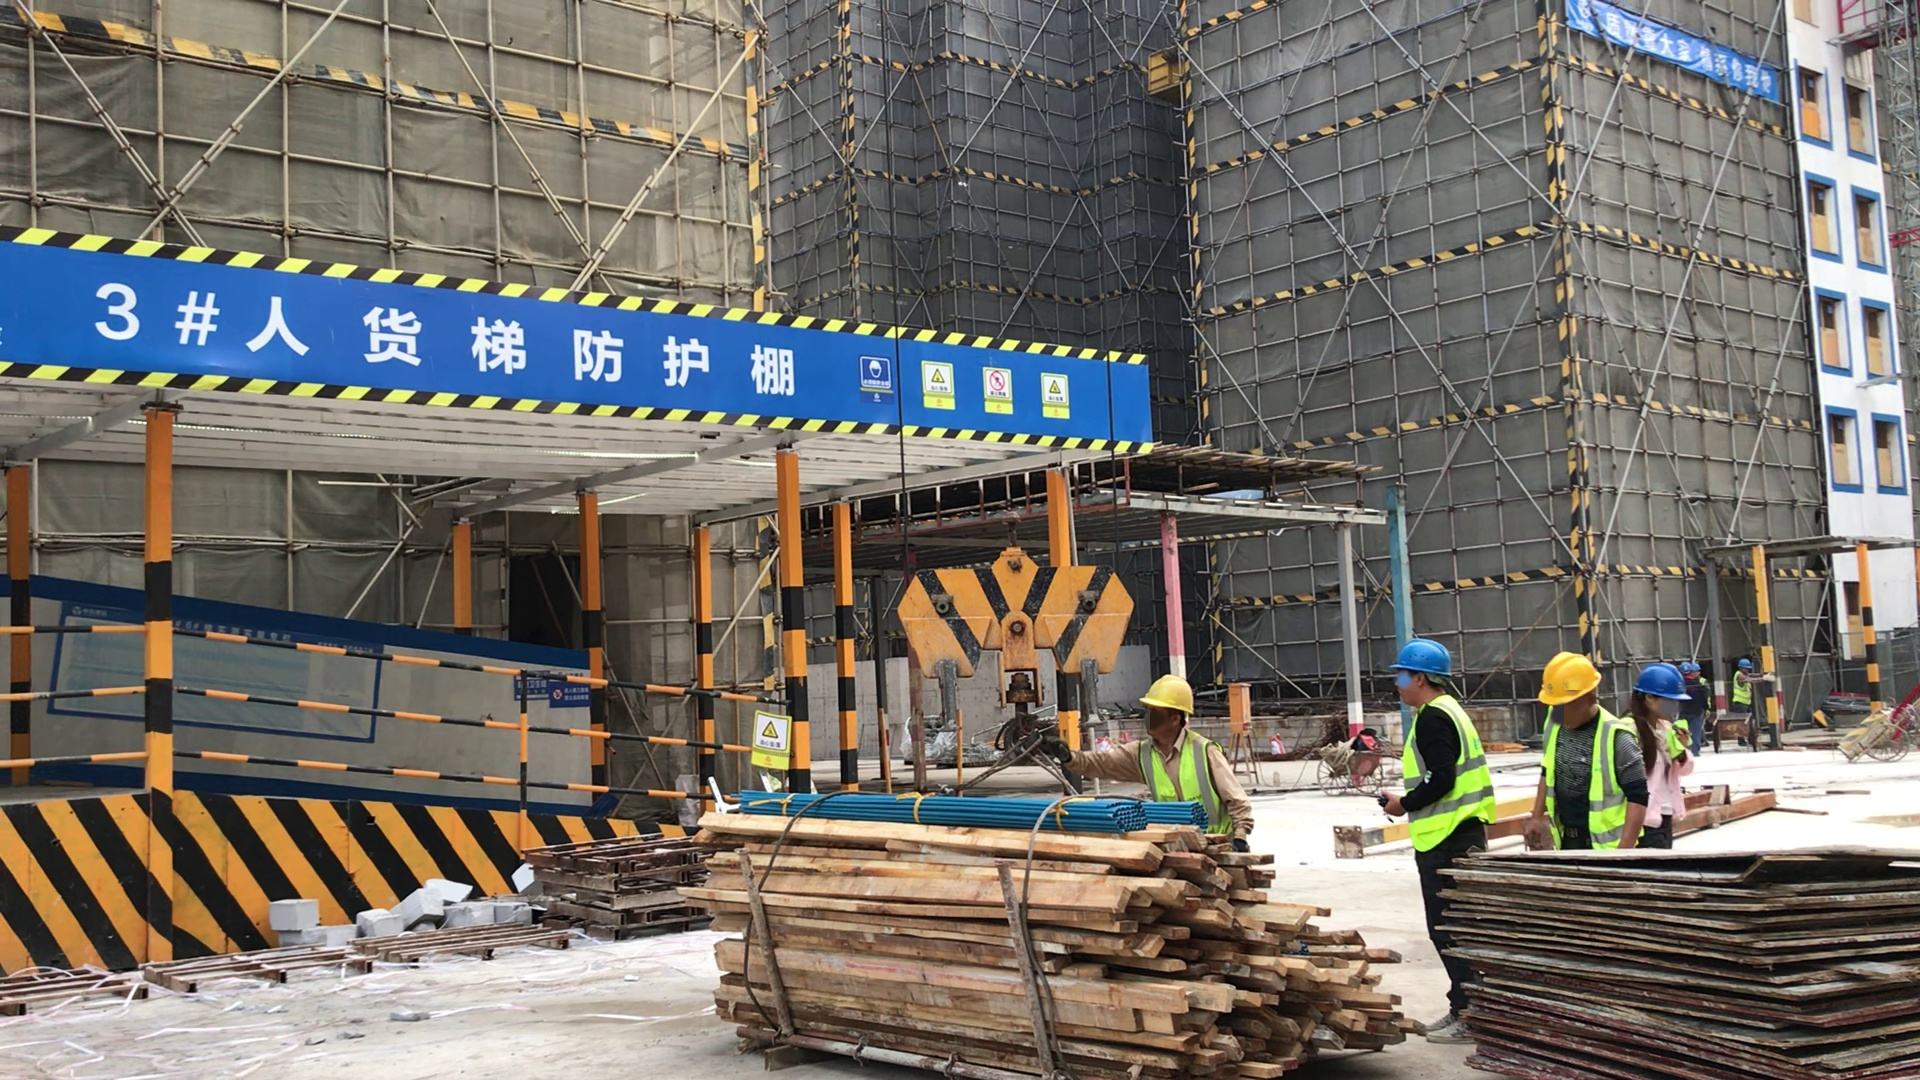board: (1426, 832, 1920, 1080)
handcart: (1834, 703, 1920, 772)
helmet: (1535, 651, 1604, 707), (1389, 631, 1452, 674), (1138, 667, 1194, 713), (1634, 657, 1688, 701), (1737, 659, 1752, 668), (1691, 662, 1704, 672), (1680, 662, 1691, 673)
hook: (895, 557, 1133, 686)
person: (1375, 632, 1502, 1052), (1038, 669, 1261, 845), (1524, 644, 1647, 872), (1627, 649, 1691, 856), (1669, 661, 1696, 743), (1729, 657, 1761, 717), (1690, 655, 1709, 755)
slogan: (1565, 1, 1784, 104)
vest: (1394, 694, 1490, 843), (1536, 706, 1627, 847), (1134, 728, 1226, 820), (1733, 670, 1753, 704)
wood: (696, 812, 1395, 1080)
